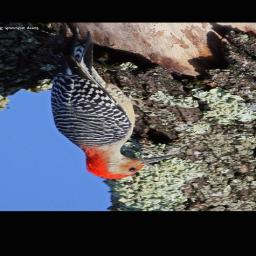Woodpecker: (48, 32, 173, 181)
